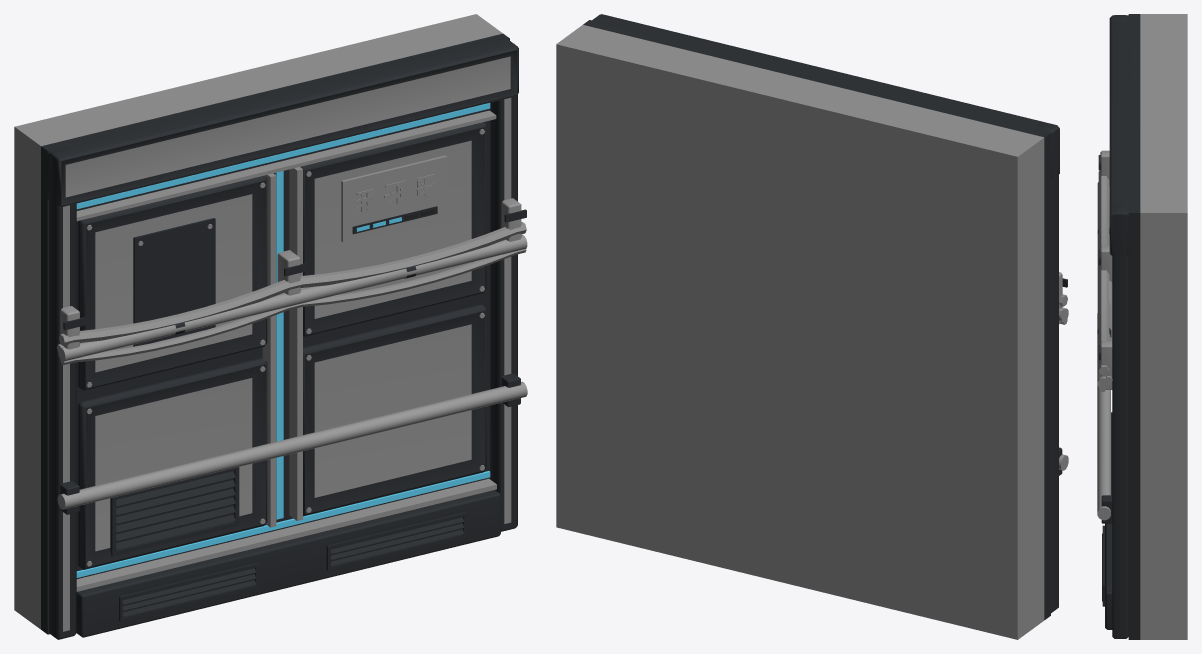
File: Vault_Wall_Panel_4m_Cyan.fbx
3 views of the same model, side by side, from view 1: azimuth 30°, elevation 25°; view 2: azimuth 150°, elevation 25°; view 3: azimuth 270°, elevation 25° (orthographic). The views are drawn at different scales.
Visible parts, largest first — view 1: Vault_Wall_Panel_4m_Cyan_LOD0; view 2: Vault_Wall_Panel_4m_Cyan_LOD0; view 3: Vault_Wall_Panel_4m_Cyan_LOD0.
Boxes of the visible parts, left/top/right/bottom form: Vault_Wall_Panel_4m_Cyan_LOD0: left=14, top=14, right=527, bottom=639; Vault_Wall_Panel_4m_Cyan_LOD0: left=556, top=14, right=1068, bottom=639; Vault_Wall_Panel_4m_Cyan_LOD0: left=1097, top=14, right=1187, bottom=639.
Size of what is drawn, in the model's own units: 4 by 4 by 0.765.
